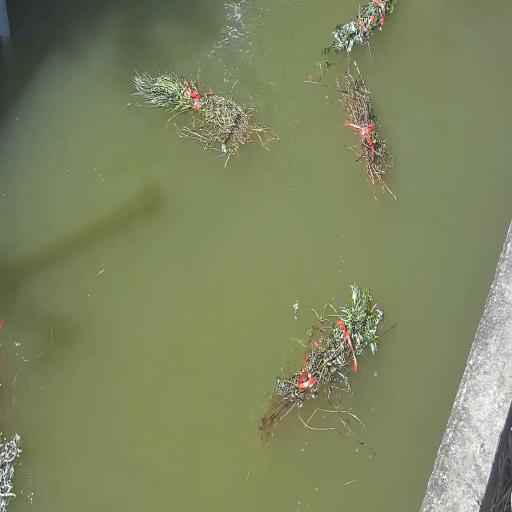twig: (255, 279, 388, 451), (130, 67, 275, 164), (331, 64, 400, 200), (2, 322, 52, 414), (324, 0, 398, 61), (128, 68, 196, 116), (0, 431, 24, 512), (19, 327, 52, 363)
